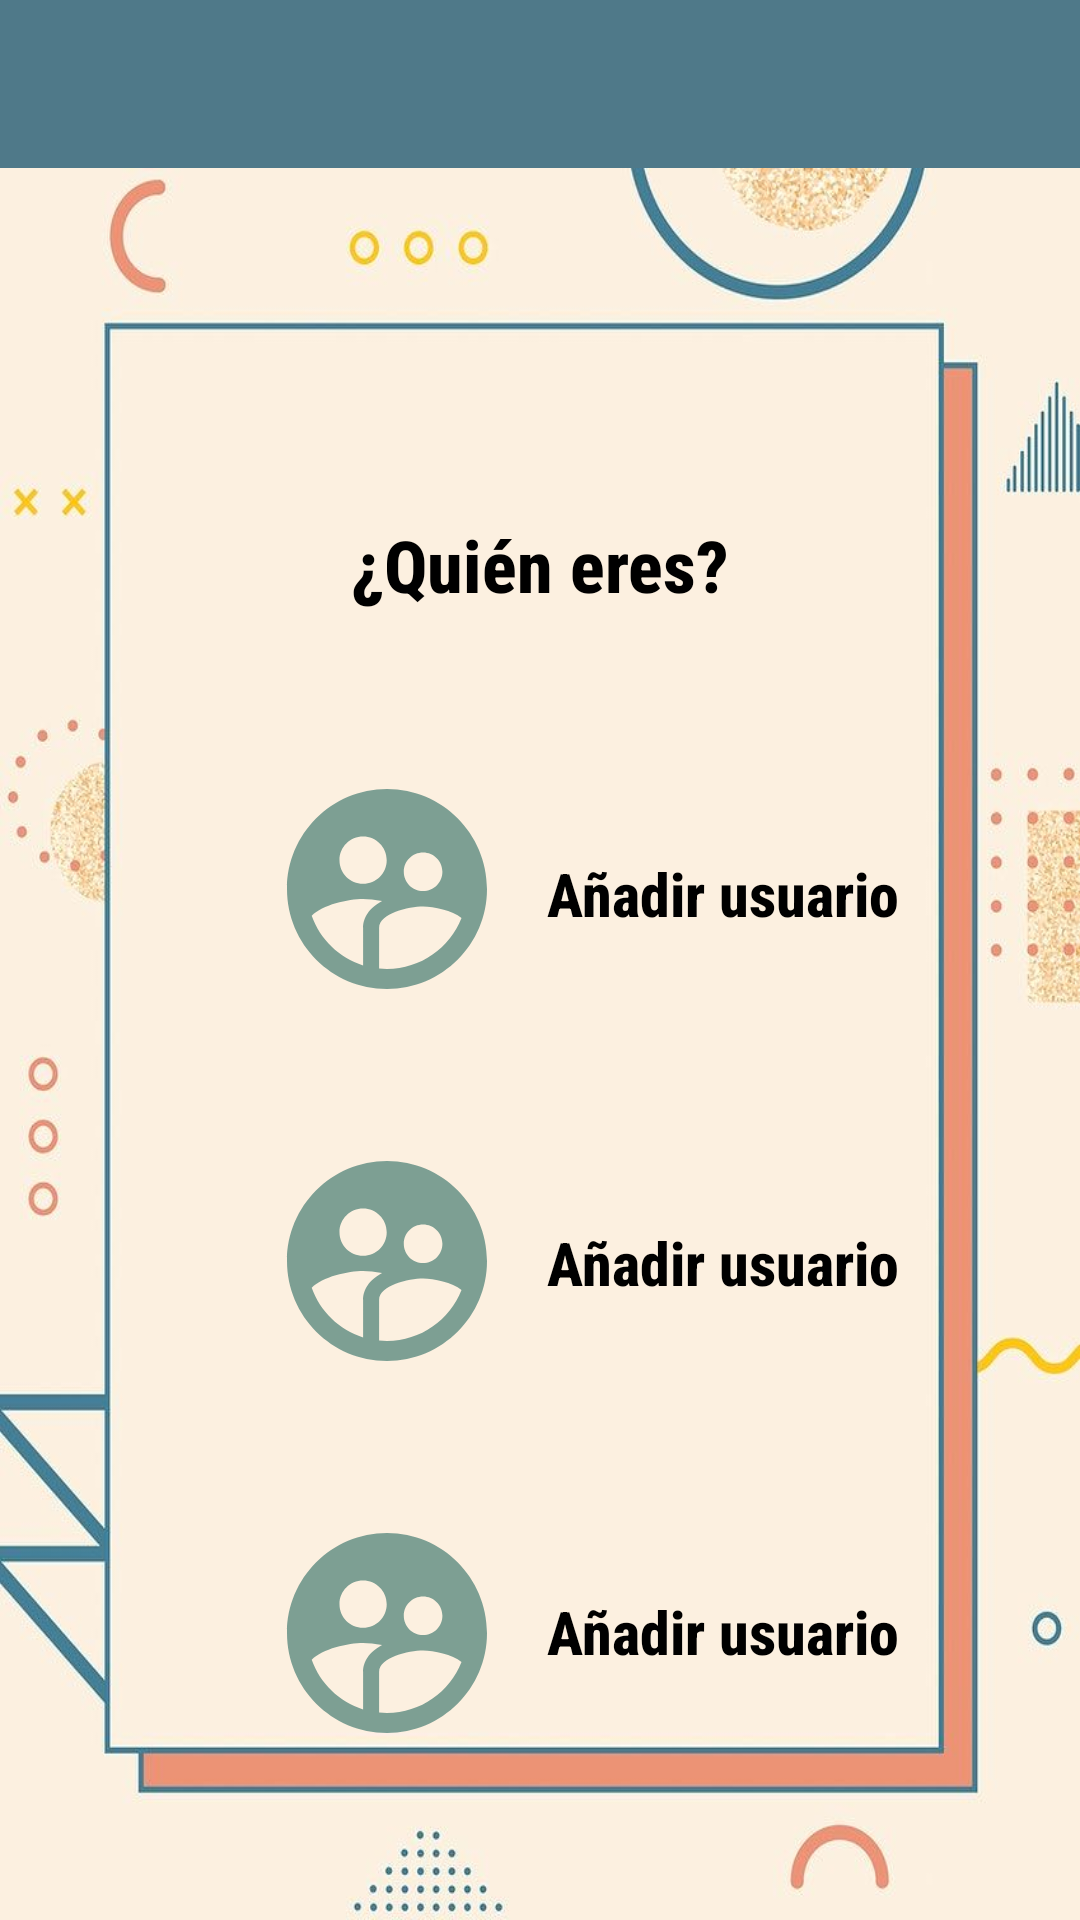

Icons on this 1080x1920 Android screen, each with the point to tap as (x,y):
supervised user circle: (387,889), (387,1261), (387,1633)
